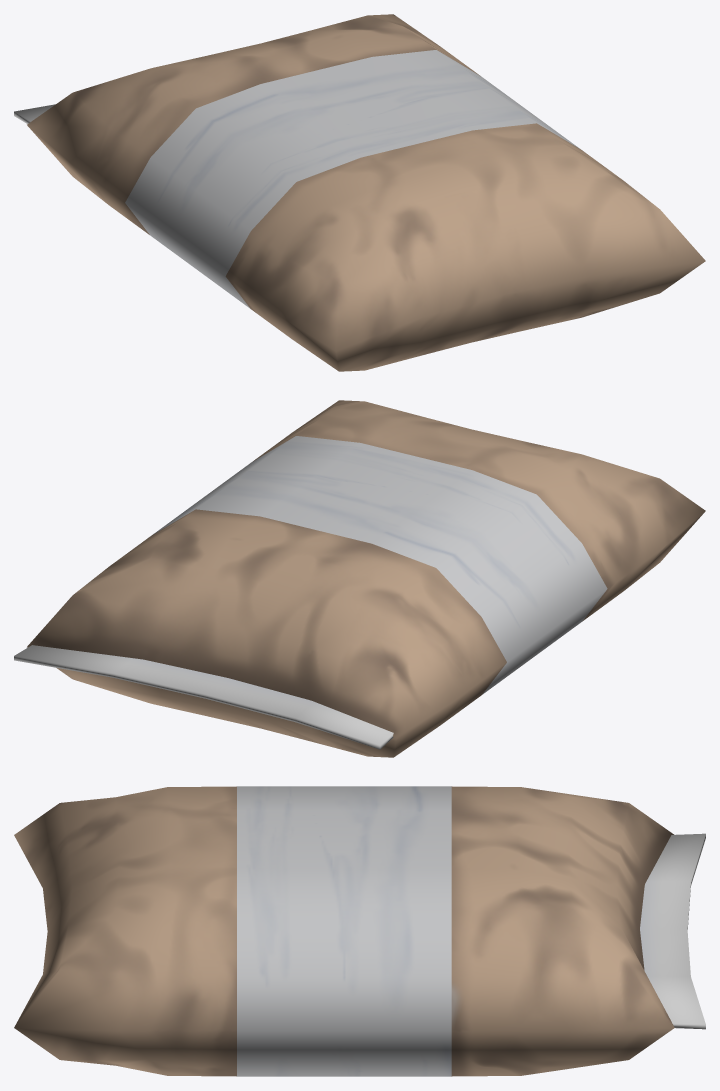
File: FlourBag.fbx
3 views of the same model, one above another, from view 1: azimuth 30°, elevation 25°; view 2: azimuth 150°, elevation 25°; view 3: azimuth 270°, elevation 25° (orthographic). The views are drawn at different scales.
Visible parts, largest first — view 1: FlourBag; view 2: FlourBag; view 3: FlourBag.
Boxes of the visible parts, left/top/right/bottom form: FlourBag: left=14, top=14, right=705, bottom=371; FlourBag: left=14, top=400, right=705, bottom=757; FlourBag: left=14, top=786, right=705, bottom=1076.
Size of the model in its own units: 112 by 47.8 by 164.
